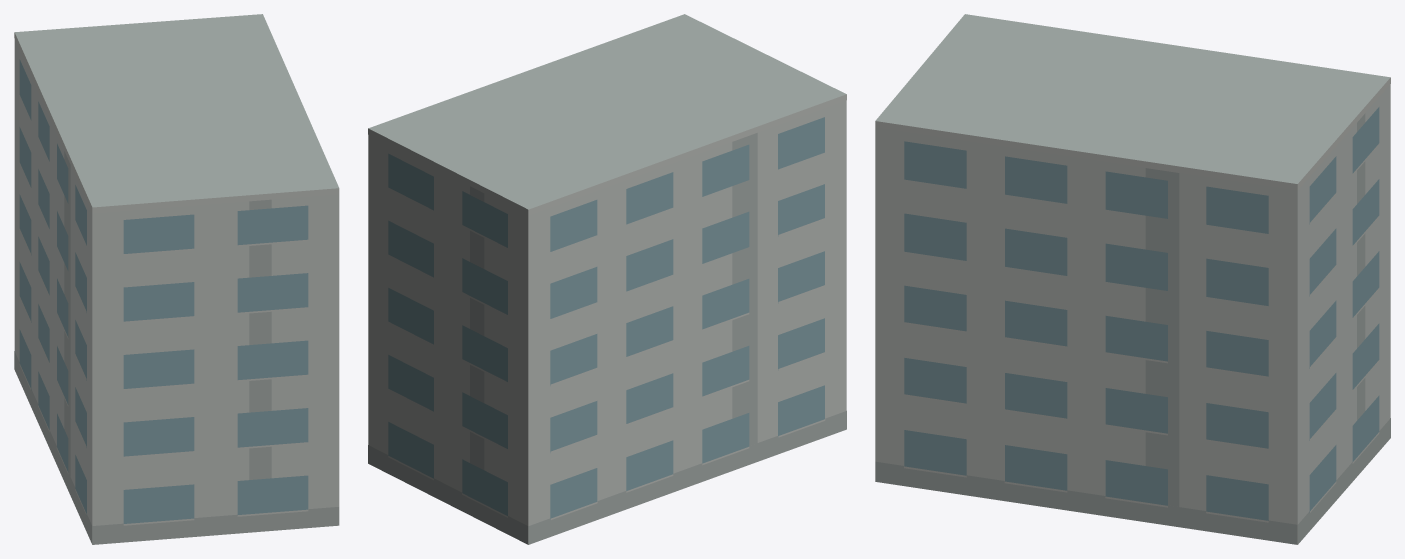
Rendered from survey-upis-32854261.glb.
3 views of the same model, side by side, from view 1: azimuth 30°, elevation 25°; view 2: azimuth 150°, elevation 25°; view 3: azimuth 270°, elevation 25° (orthographic). The views are drawn at different scales.
Parts seen in each view (by area): view 1: survey-upis-32854261.tmp; view 2: survey-upis-32854261.tmp; view 3: survey-upis-32854261.tmp.
Part boxes in pixels (left/top/right/bottom): survey-upis-32854261.tmp: left=14, top=14, right=339, bottom=544; survey-upis-32854261.tmp: left=368, top=14, right=846, bottom=544; survey-upis-32854261.tmp: left=875, top=14, right=1390, bottom=544.
Bounding box in the file's own units: 13.46 × 13.3 × 17.23.
